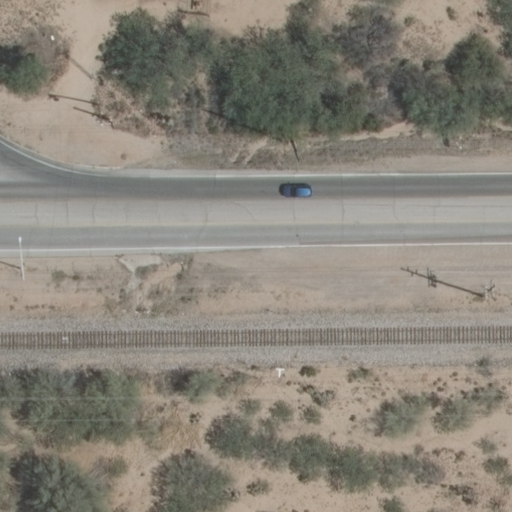DT: (475, 280, 500, 304)
